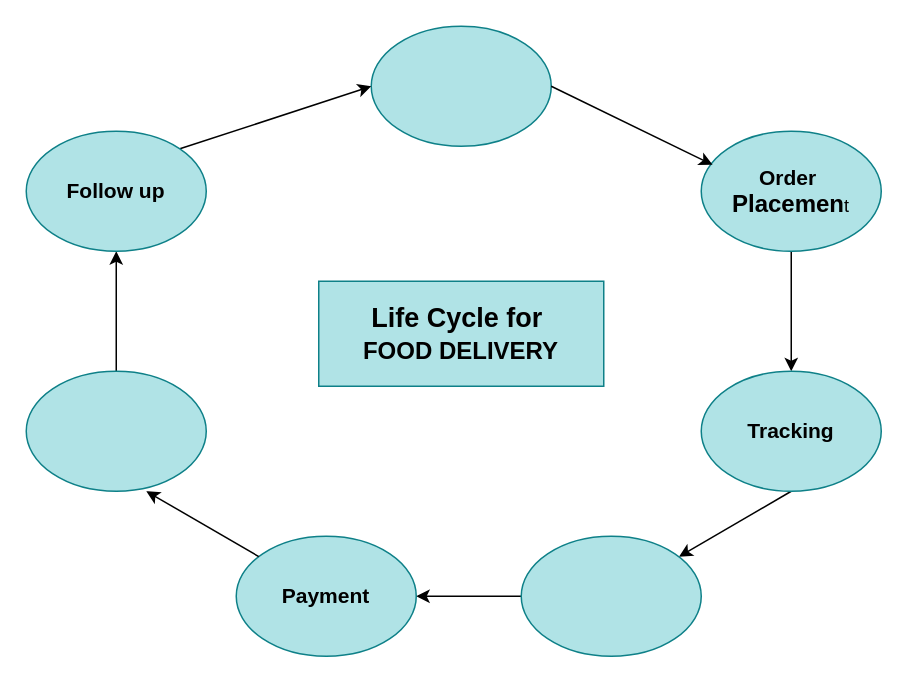
This 908x683 diagram has some shape labels left out. Each missing label, with the centre of its shape:
Delivery Food: the point at 610,595
Feedback/ Ratings: the point at 115,430
Sign up: the point at 460,85
